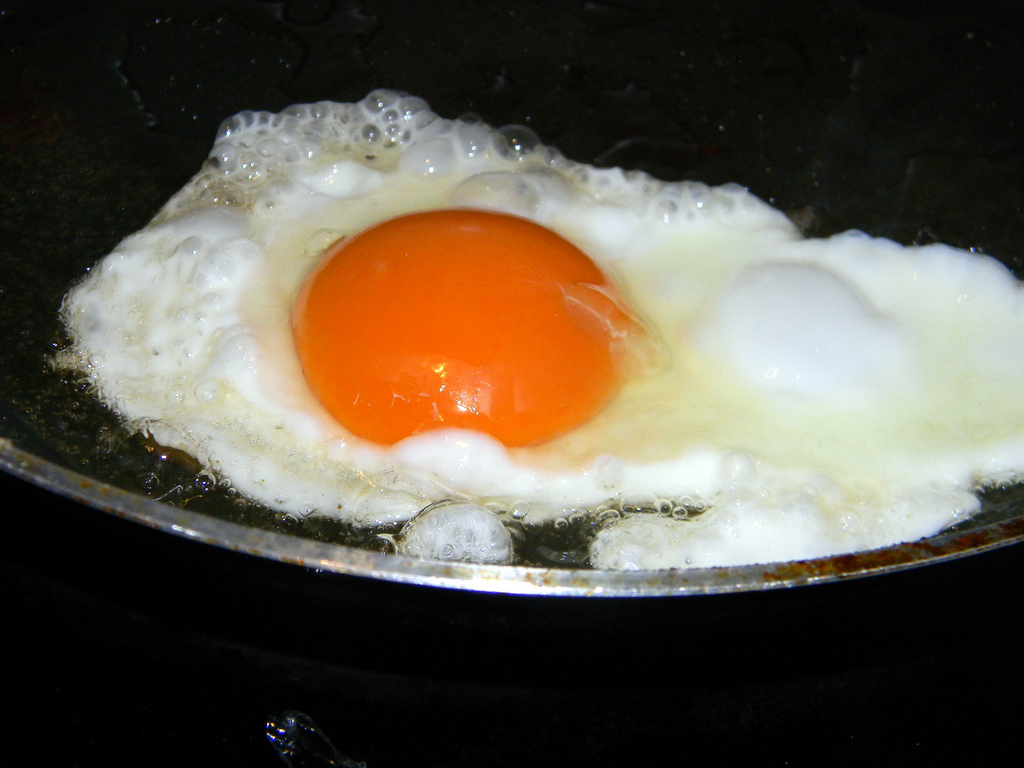fried egg: (203, 172, 989, 533)
